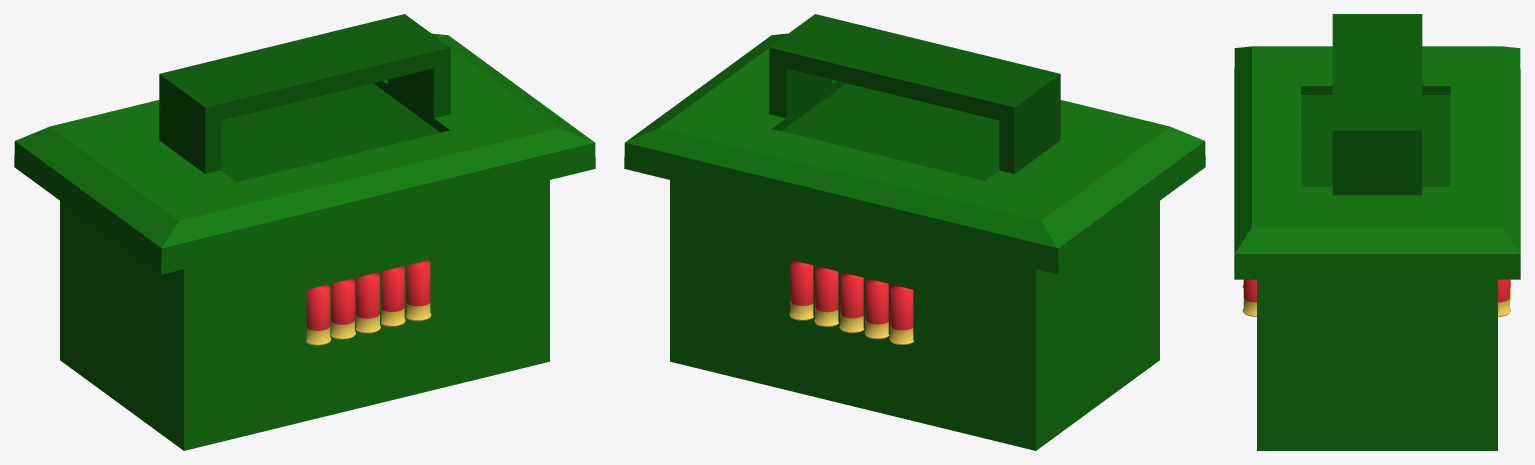
File: ShotgunAmmoBox.fbx
3 views of the same model, side by side, from view 1: azimuth 30°, elevation 25°; view 2: azimuth 150°, elevation 25°; view 3: azimuth 270°, elevation 25° (orthographic). The views are drawn at different scales.
Visible parts, largest first — view 1: Cube, Cylinder.002, Cylinder.004, Cylinder.003, Cylinder, Cylinder.001; view 2: Cube, Cylinder.008, Cylinder.005, Cylinder.006, Cylinder.007, Cylinder.009; view 3: Cube, Cylinder.002, Cylinder.007.
Boxes of the visible parts, left/top/right/bottom form: Cube: left=14, top=14, right=595, bottom=450; Cylinder.002: left=406, top=260, right=431, bottom=321; Cylinder.004: left=306, top=284, right=331, bottom=345; Cylinder.003: left=330, top=278, right=355, bottom=339; Cylinder: left=355, top=272, right=380, bottom=333; Cylinder.001: left=381, top=266, right=405, bottom=326; Cube: left=624, top=14, right=1205, bottom=450; Cylinder.008: left=864, top=278, right=889, bottom=339; Cylinder.005: left=839, top=272, right=864, bottom=333; Cylinder.006: left=814, top=266, right=838, bottom=326; Cylinder.007: left=789, top=260, right=813, bottom=320; Cylinder.009: left=889, top=284, right=913, bottom=344; Cube: left=1234, top=14, right=1520, bottom=450; Cylinder.002: left=1242, top=279, right=1256, bottom=316; Cylinder.007: left=1498, top=279, right=1510, bottom=316.
Size of the model in its own units: 101 by 66.81 by 59.35.
